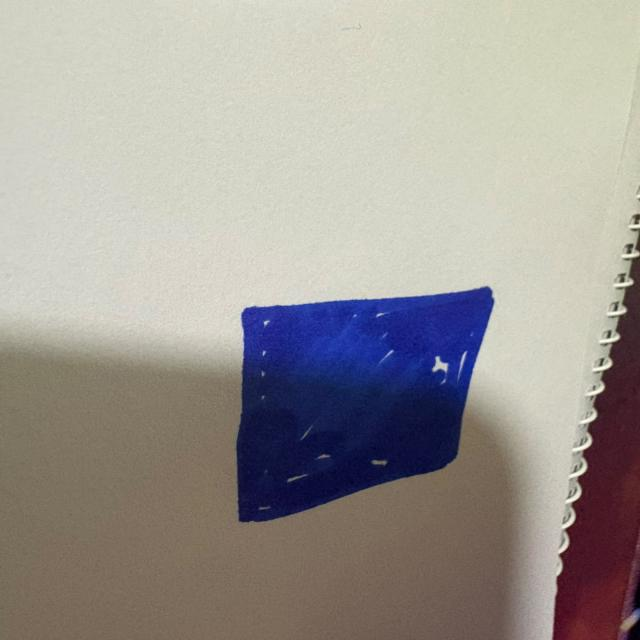Square: (225, 283, 501, 530)
